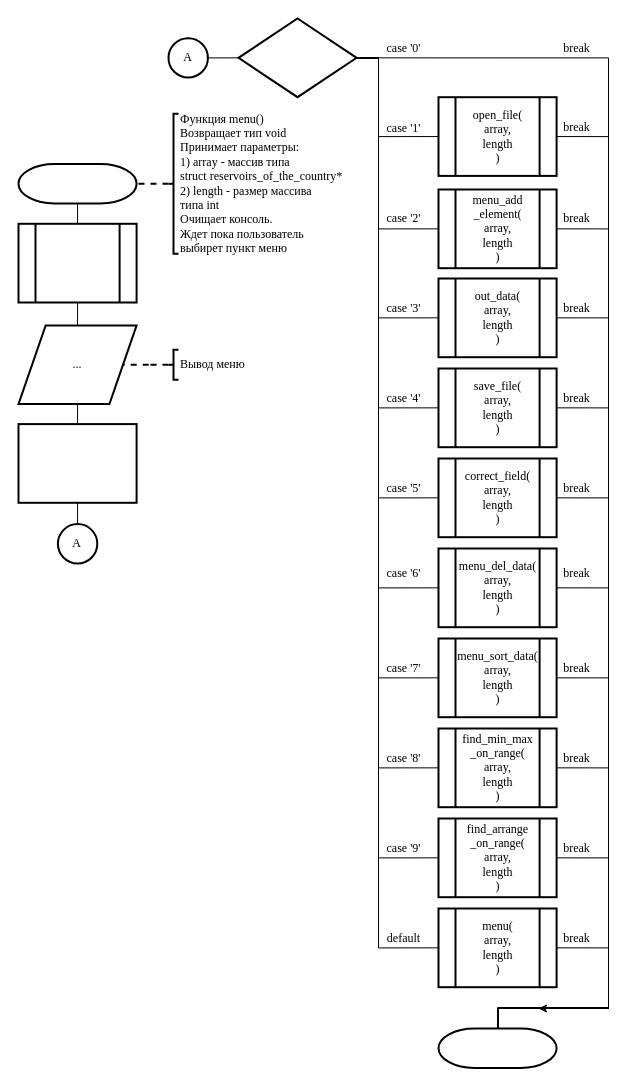
The diagram is 634 pixels wide and 1086 high, and some of its shapes have lost their labels. Here are the shapes that lost their labels. From the top down, the box of each, then its label:
(237, 17, 357, 98): choosen_case = getch()
(17, 163, 137, 204): void menu()
(17, 222, 137, 303): clear_console()
(17, 423, 137, 503): int choosen_case
(437, 1027, 557, 1068): Конец
